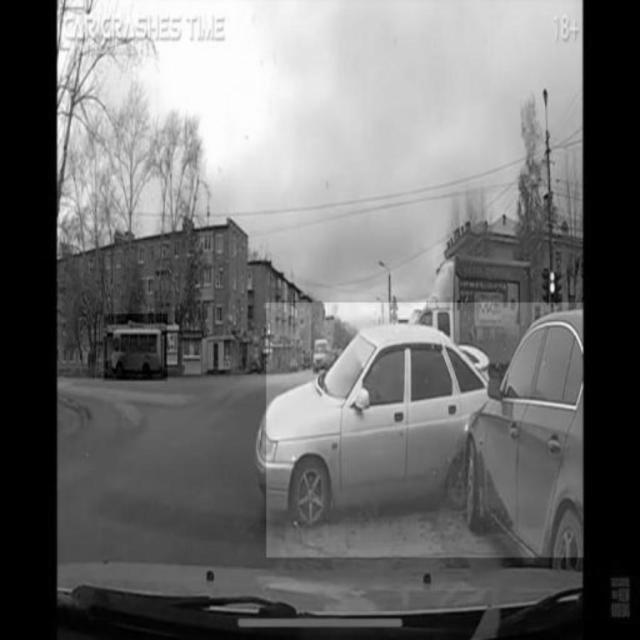accident: (267, 304, 584, 558)
vehicle: (104, 314, 168, 381)
